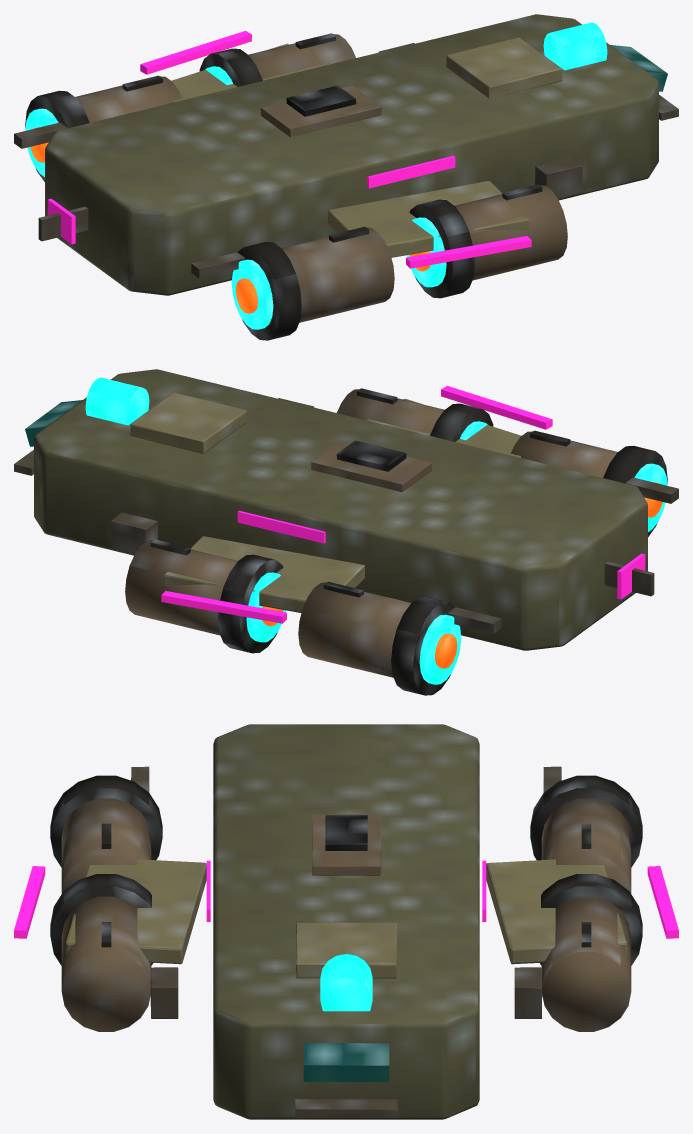
Rendered from frigate.glb.
The picture shows the model from 3 angles, top to bottom: view 1: azimuth 30°, elevation 25°; view 2: azimuth 150°, elevation 25°; view 3: azimuth 270°, elevation 25°; orthographic projection. The views are drawn at different scales.
Visible parts, largest first — view 1: Sandwar3D; view 2: Sandwar3D; view 3: Sandwar3D.
Part boxes in pixels (x1,y1,x2,y2): Sandwar3D: (14,14,678,340); Sandwar3D: (14,369,678,695); Sandwar3D: (14,724,678,1119).
Size of the model in its own units: 4.42 by 1.02 by 3.55.
Materials: 11 (10 with a texture image).
